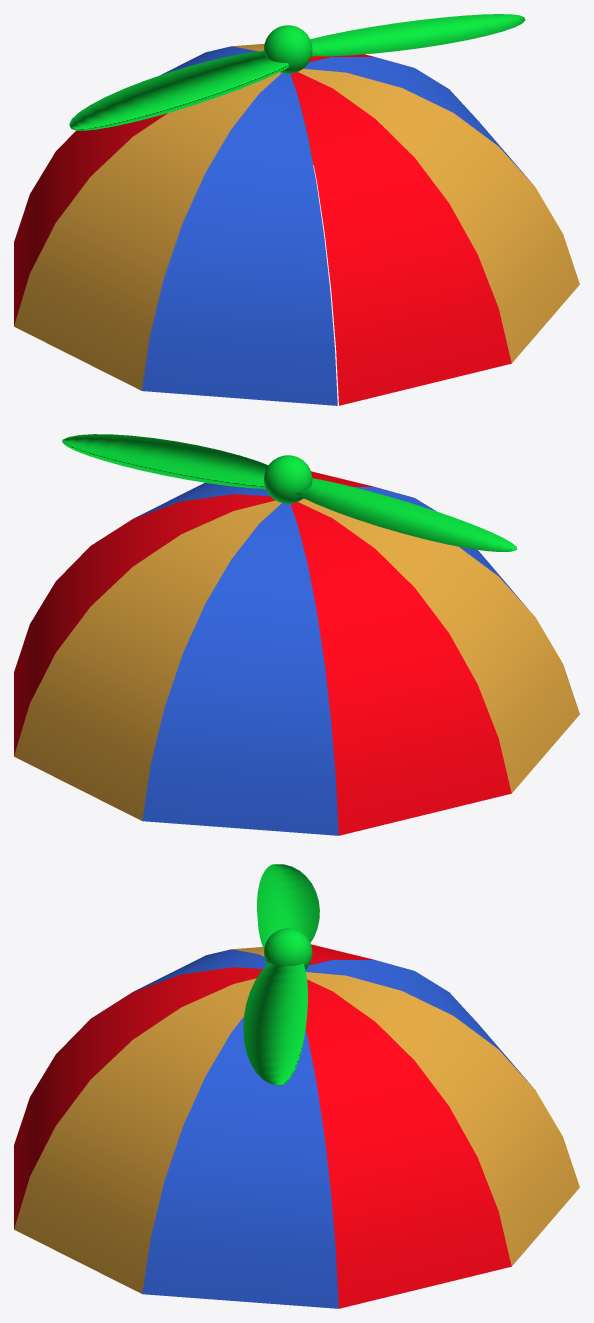
The model's file is PropellerHat.fbx.
The picture shows the model from 3 angles, top to bottom: view 1: azimuth 30°, elevation 25°; view 2: azimuth 150°, elevation 25°; view 3: azimuth 270°, elevation 25°; orthographic projection.
Parts seen in each view (by area): view 1: Sphere.009, Sphere.008, Sphere.007, Sphere.006, PropellerBlade1, Sphere.001, PropellerBlade2, Sphere.005, Sphere, Sphere.002; view 2: Sphere.002, Sphere.001, Sphere.003, Sphere.007, Sphere.004, PropellerBlade2, PropellerBlade1, Sphere, Sphere.005, Sphere.009; view 3: Sphere.004, Sphere.005, Sphere.006, Sphere.003, Sphere.008, PropellerBlade2, PropellerBlade1, Sphere.002, Sphere, Sphere.009, Sphere.001.
Part boxes in pixels (left/top/right/bottom): Sphere.009: left=141, top=73, right=337, bottom=405; Sphere.008: left=290, top=72, right=511, bottom=405; Sphere.007: left=14, top=72, right=281, bottom=390; Sphere.006: left=298, top=68, right=579, bottom=363; PropellerBlade1: left=69, top=50, right=289, bottom=130; Sphere.001: left=14, top=113, right=167, bottom=325; PropellerBlade2: left=310, top=14, right=525, bottom=56; Sphere.005: left=304, top=57, right=530, bottom=181; Sphere: left=264, top=25, right=312, bottom=73; Sphere.002: left=161, top=46, right=257, bottom=74; Sphere.002: left=142, top=503, right=338, bottom=835; Sphere.001: left=290, top=502, right=511, bottom=835; Sphere.003: left=14, top=500, right=281, bottom=820; Sphere.007: left=298, top=498, right=579, bottom=793; Sphere.004: left=14, top=494, right=275, bottom=755; PropellerBlade2: left=62, top=434, right=268, bottom=488; PropellerBlade1: left=294, top=478, right=516, bottom=551; Sphere: left=264, top=455, right=312, bottom=503; Sphere.005: left=133, top=482, right=270, bottom=518; Sphere.009: left=303, top=487, right=526, bottom=607; Sphere.004: left=305, top=979, right=511, bottom=1308; Sphere.005: left=142, top=1017, right=338, bottom=1308; Sphere.006: left=14, top=978, right=256, bottom=1293; Sphere.003: left=306, top=972, right=579, bottom=1266; Sphere.008: left=14, top=967, right=262, bottom=1228; PropellerBlade2: left=243, top=962, right=307, bottom=1085; PropellerBlade1: left=257, top=864, right=319, bottom=949; Sphere.002: left=305, top=960, right=530, bottom=1084; Sphere: left=264, top=928, right=312, bottom=969; Sphere.009: left=67, top=949, right=266, bottom=1042; Sphere.001: left=309, top=944, right=374, bottom=965.
Bounding box in the file's own units: 193 × 95.28 × 190.
